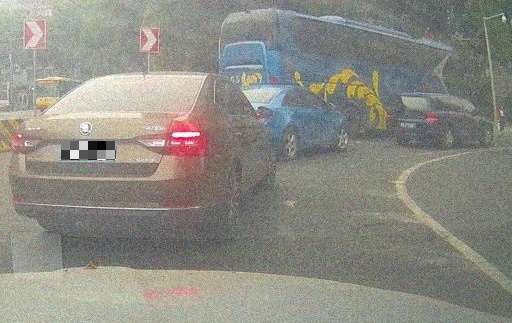L_light: (9, 131, 42, 153), (386, 110, 394, 117)
R_light: (133, 130, 207, 155), (426, 111, 438, 121)
T_light: (125, 77, 158, 83), (407, 96, 418, 98)
day-no: (385, 93, 441, 146)
day-right: (9, 74, 214, 235)
plate_1: (61, 141, 116, 160)
